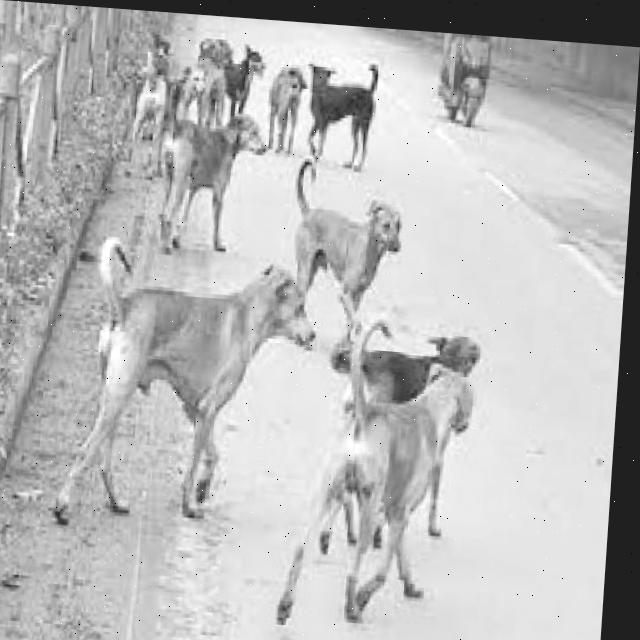Dog: (41, 231, 319, 516), (273, 312, 495, 640), (273, 150, 409, 358), (321, 323, 491, 429), (156, 89, 273, 238), (301, 42, 400, 172), (133, 15, 181, 169), (267, 45, 304, 170), (195, 31, 231, 132), (217, 46, 263, 115), (174, 53, 204, 126)
